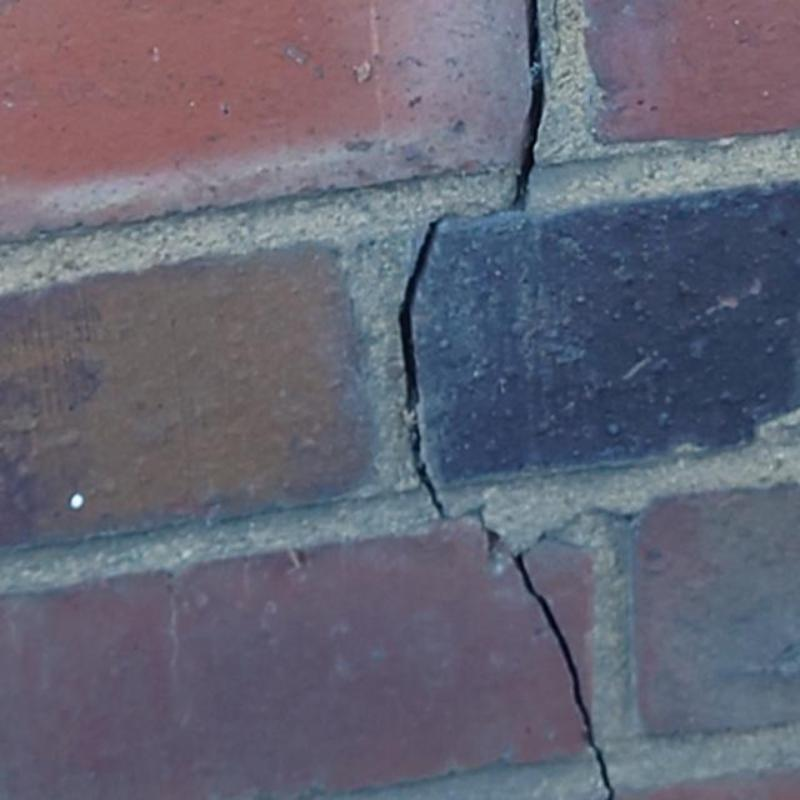crack: (512, 553, 614, 799), (400, 222, 445, 516), (511, 1, 544, 211), (522, 508, 644, 554), (546, 0, 562, 78), (446, 501, 488, 529), (485, 528, 503, 549)
